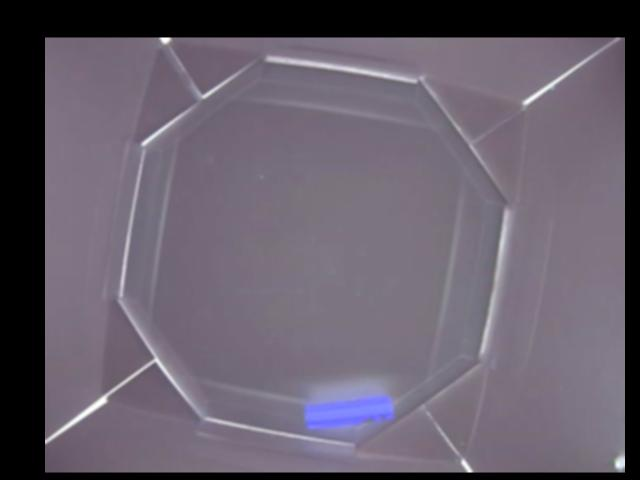Battery: (302, 394, 397, 428)
